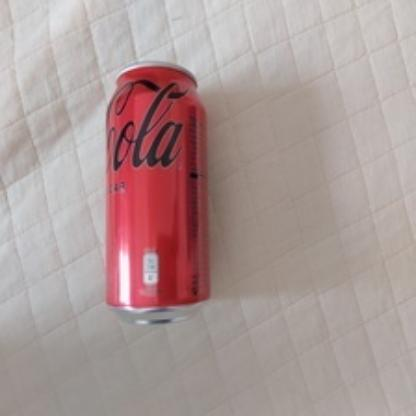Can: (102, 61, 212, 324)
